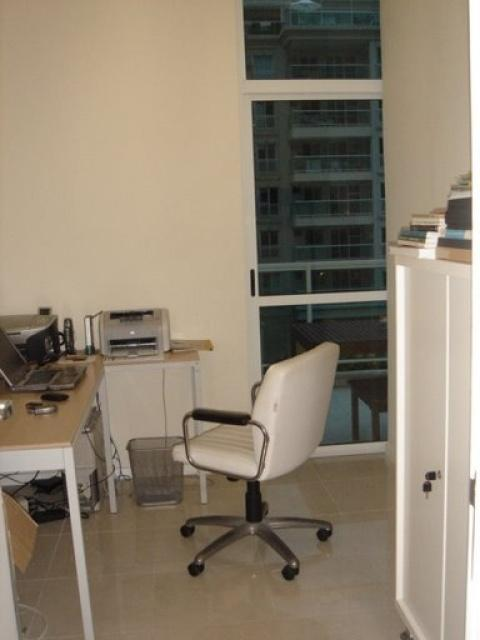Kursi: (178, 339, 338, 578)
Lemari: (385, 250, 479, 639)
Meja: (0, 358, 117, 533)
Printer: (97, 307, 171, 359)
